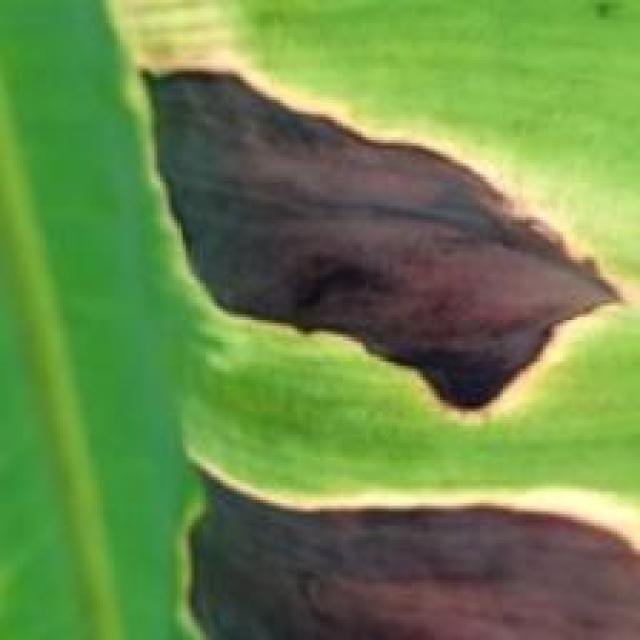Bacterial_spot: (118, 52, 622, 416), (145, 437, 640, 640)
